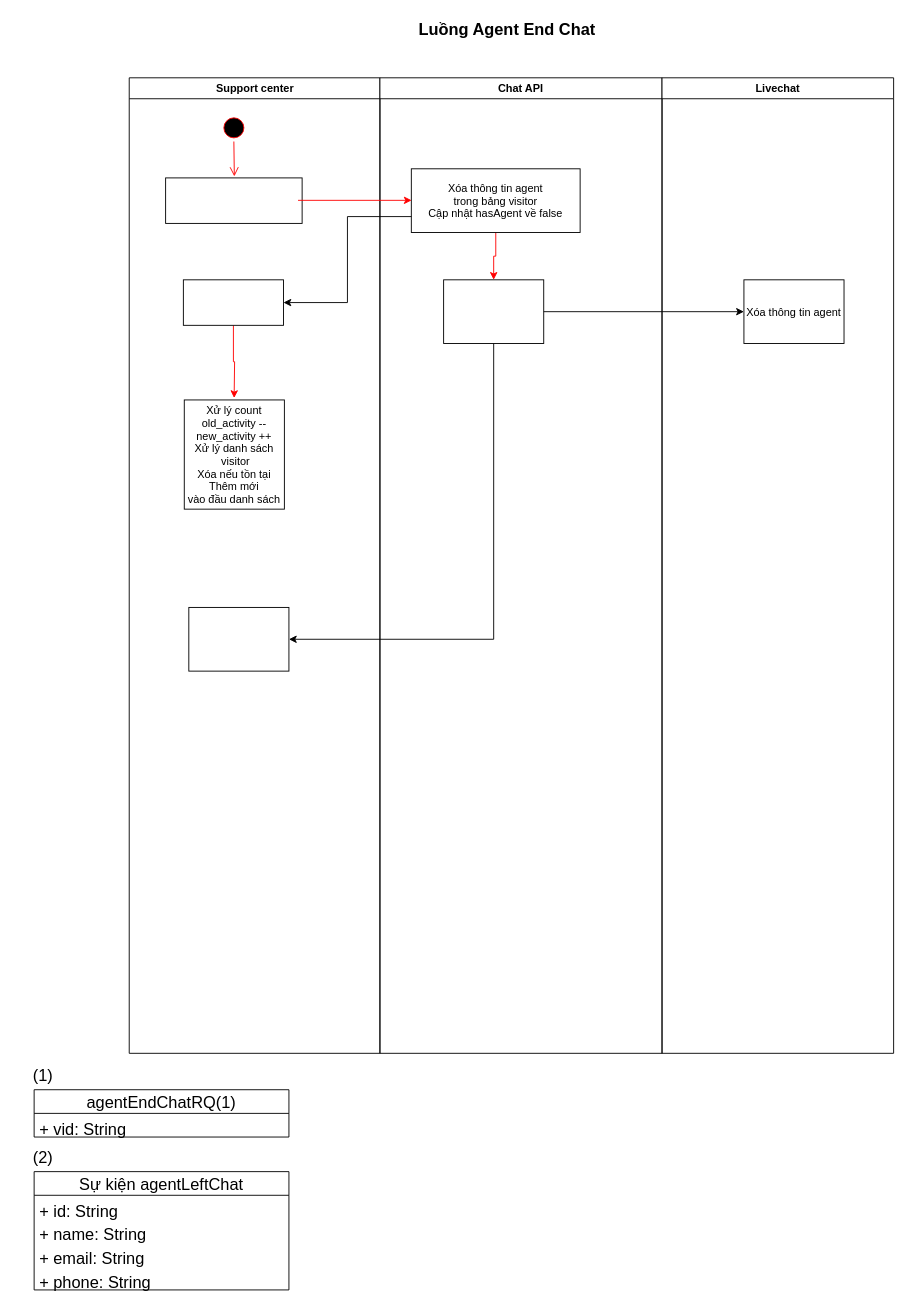
This 909x1308 diagram has some shape labels left out. The centre of each missing label's shape, as x and y in pixels:
Gọi API End chat (1): (233,200)
Gửi sự kiện agent left chat: (493,311)
Nhận sự kiện cập nhật visitor: (232,302)
Trở về trang chatting Bỏ chọn visitor: (238,639)
